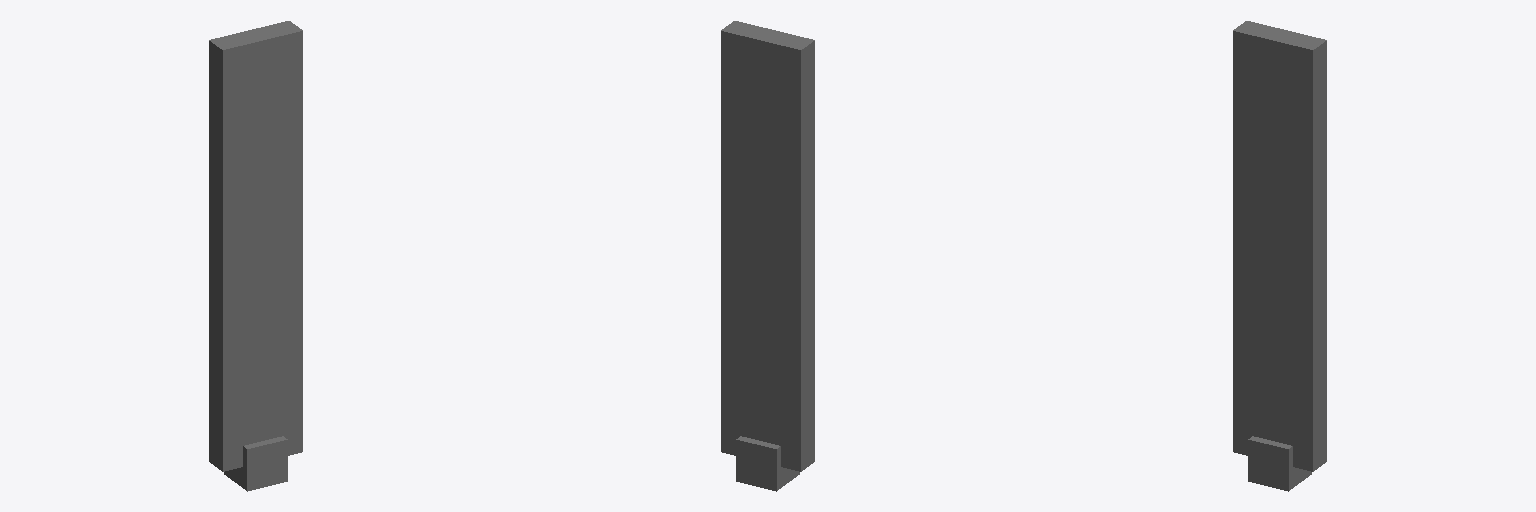
URDF robot description (dropfork):
<?xml version="1.0" ?>
<robot name="dropfork">

    <material name="color">
        <color rgba="0.5 0.5 0.5 1.0"/>
    </material>

    <link name="tool">
        <visual>
            <origin xyz="0 0 0" rpy="0 0 0"/>
            <geometry>
                <box size="0.01 0.003 0.05"/>
            </geometry>
            <material name="color"/>
        </visual>
        <collision>
            <origin xyz="0 0 0" rpy="0 0 0"/>
            <geometry>
                <box size="0.01 0.003 0.05"/>
            </geometry>
        </collision>
        <contact>
            <rolling_friction value="0.001"/>
            <spinning_friction value="0.001"/>
        </contact>
        <inertial>
            <origin rpy="0 0 0" xyz="0 0 0"/>
            <mass value="0.05"/>
            <inertia ixx="1" ixy="0" ixz="0" iyy="1" iyz="0" izz="1"/>
        </inertial>
    </link>

    <link name="tool_tip">
        <visual>
            <origin xyz="0 0 0" rpy="0 0 0"/>
            <geometry>
                <box size="0.005 0.005 0.005"/>
            </geometry>
            <material name="color"/>
        </visual>
        <collision>
            <origin xyz="0 0 0" rpy="0 0 0"/>
            <geometry>
                <box size="0.005 0.005 0.005"/>
            </geometry>
        </collision>
        <contact>
            <rolling_friction value="0.001"/>
            <spinning_friction value="0.001"/>
        </contact>
        <inertial>
            <origin rpy="0 0 0" xyz="0 0 0"/>
            <mass value="0.01"/>
            <inertia ixx="1" ixy="0" ixz="0" iyy="1" iyz="0" izz="1"/>
        </inertial>
    </link>

    <joint name="j_weld1" type="fixed">
        <parent link="tool"/>
        <child link="tool_tip"/>
        <origin xyz="0 0 -0.025"/>
    </joint>

</robot>

--- Facts derived from the render (not from the file) ---
3 views of the same robot in one strip: view 1: azimuth 30°, elevation 25°; view 2: azimuth 150°, elevation 25°; view 3: azimuth 330°, elevation 25° (orthographic).
Robot: dropfork — 2 links, 1 joints (1 fixed); root link tool; default pose: all joints at 0.
Links seen in each view (by area): view 1: tool, tool_tip; view 2: tool, tool_tip; view 3: tool, tool_tip.
Link boxes in pixels (bbox=[...]): tool: bbox=[209, 21, 302, 471]; tool_tip: bbox=[224, 436, 287, 491]; tool: bbox=[721, 21, 814, 471]; tool_tip: bbox=[736, 436, 799, 491]; tool: bbox=[1233, 21, 1326, 471]; tool_tip: bbox=[1248, 436, 1311, 491].
Size in the robot's own frame: 0.01 by 0.005 by 0.0525 metres.
Geometry: primitives only (box / cylinder / sphere), no mesh files.
